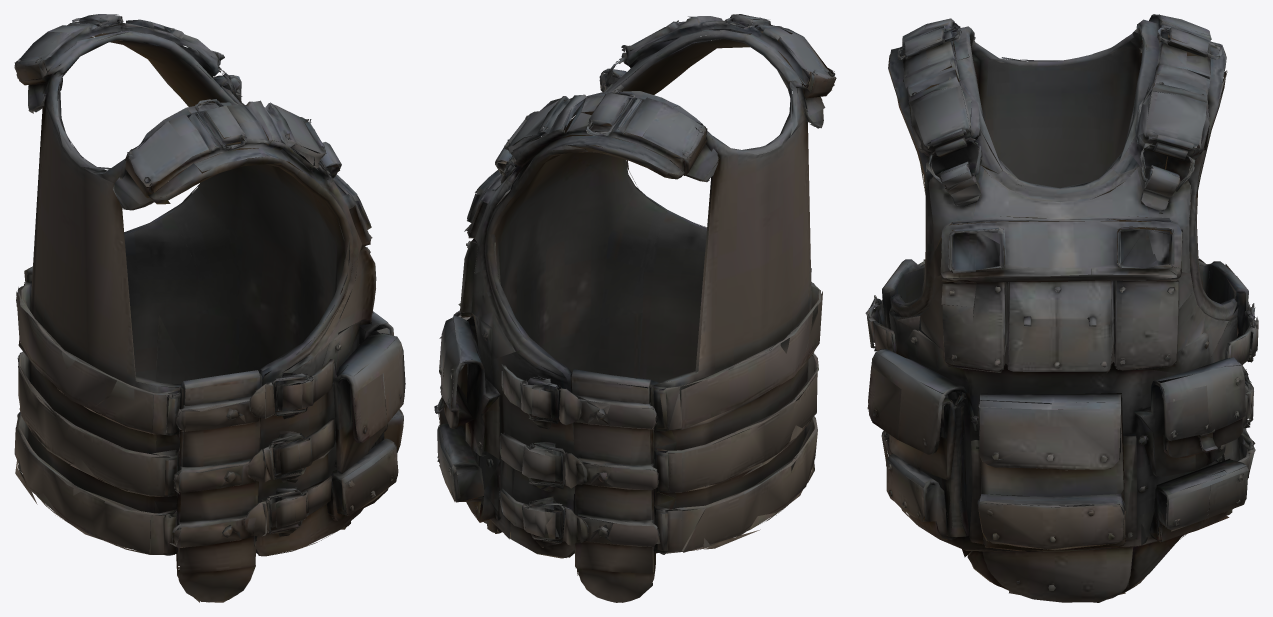
The model's file is mer_heavy_armor_vest_LOD1.glb.
The picture shows the model from 3 angles, left to right: view 1: azimuth 30°, elevation 25°; view 2: azimuth 150°, elevation 25°; view 3: azimuth 270°, elevation 25°; orthographic projection.
Parts seen in each view (by area): view 1: tripo_node_8c215259-2e06-4478-ae20-6da728c0bd17; view 2: tripo_node_8c215259-2e06-4478-ae20-6da728c0bd17; view 3: tripo_node_8c215259-2e06-4478-ae20-6da728c0bd17.
Part boxes in pixels (x1,y1,x2,y2): tripo_node_8c215259-2e06-4478-ae20-6da728c0bd17: [14, 14, 405, 602]; tripo_node_8c215259-2e06-4478-ae20-6da728c0bd17: [434, 14, 836, 602]; tripo_node_8c215259-2e06-4478-ae20-6da728c0bd17: [865, 14, 1258, 602].
Bounding box in the file's own units: 0.6661 × 0.9998 × 0.7199.
Materials: 1 (1 with a texture image).
